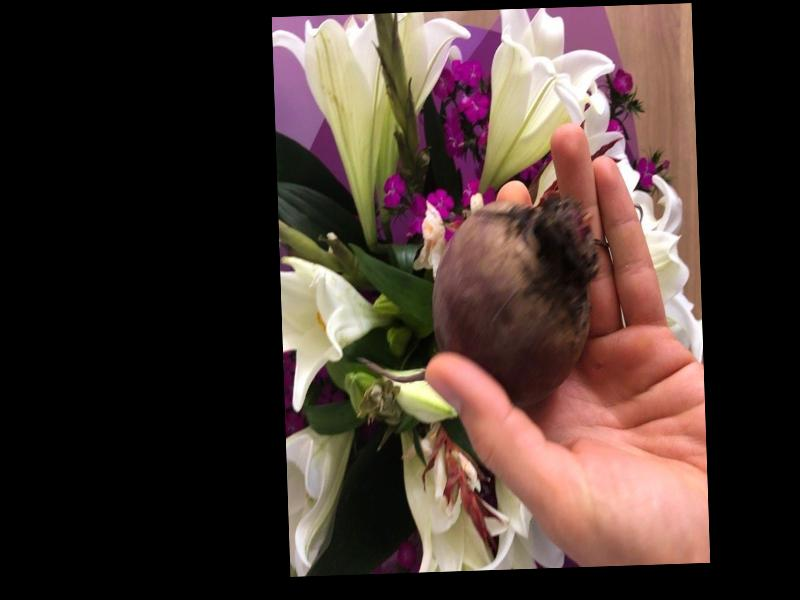Beet: (352, 194, 596, 409)
